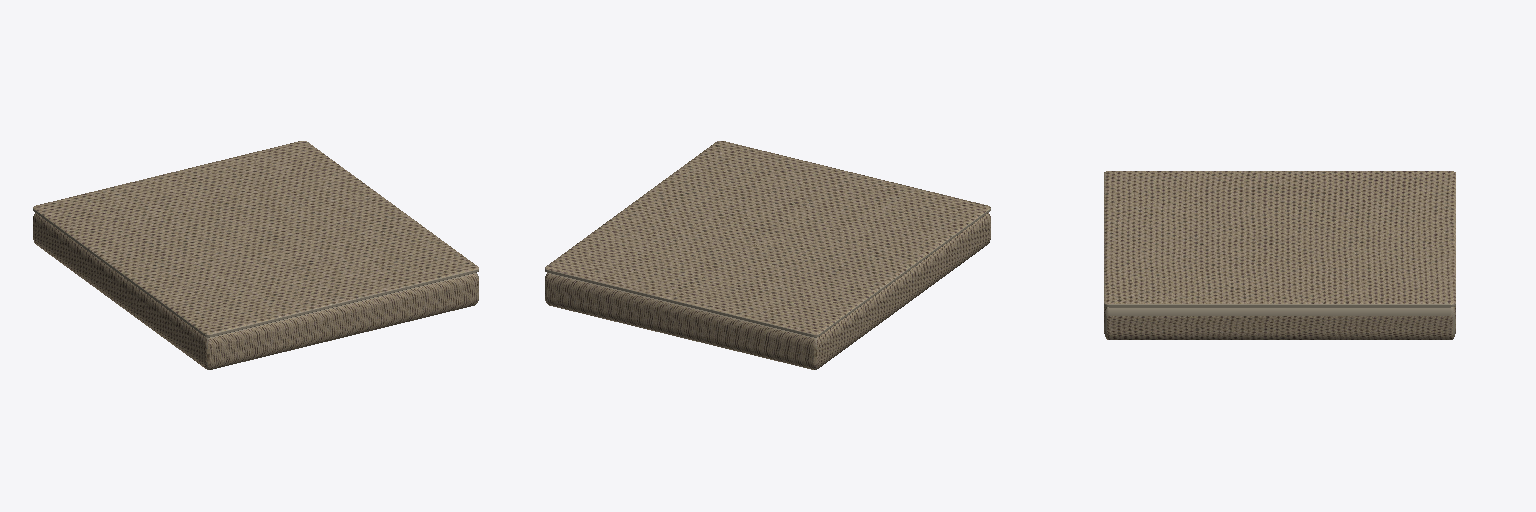
3 views of the same model, side by side, from view 1: azimuth 30°, elevation 25°; view 2: azimuth 150°, elevation 25°; view 3: azimuth 270°, elevation 25° (orthographic).
Visible parts, largest first — view 1: Object.000; view 2: Object.000; view 3: Object.000.
Boxes of the visible parts, <box> form: Object.000: <box>33,141,478,369</box>; Object.000: <box>545,141,990,369</box>; Object.000: <box>1104,171,1455,339</box>.
Bounding box in the file's own units: 2119 × 285 × 2355.
Materials: 1 (1 with a texture image).